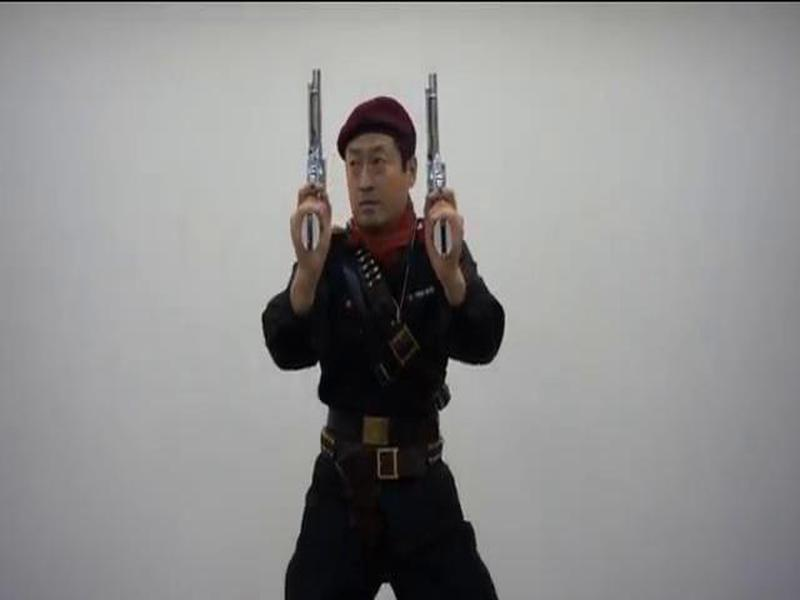Revolver: (276, 56, 368, 263), (405, 64, 485, 277)
